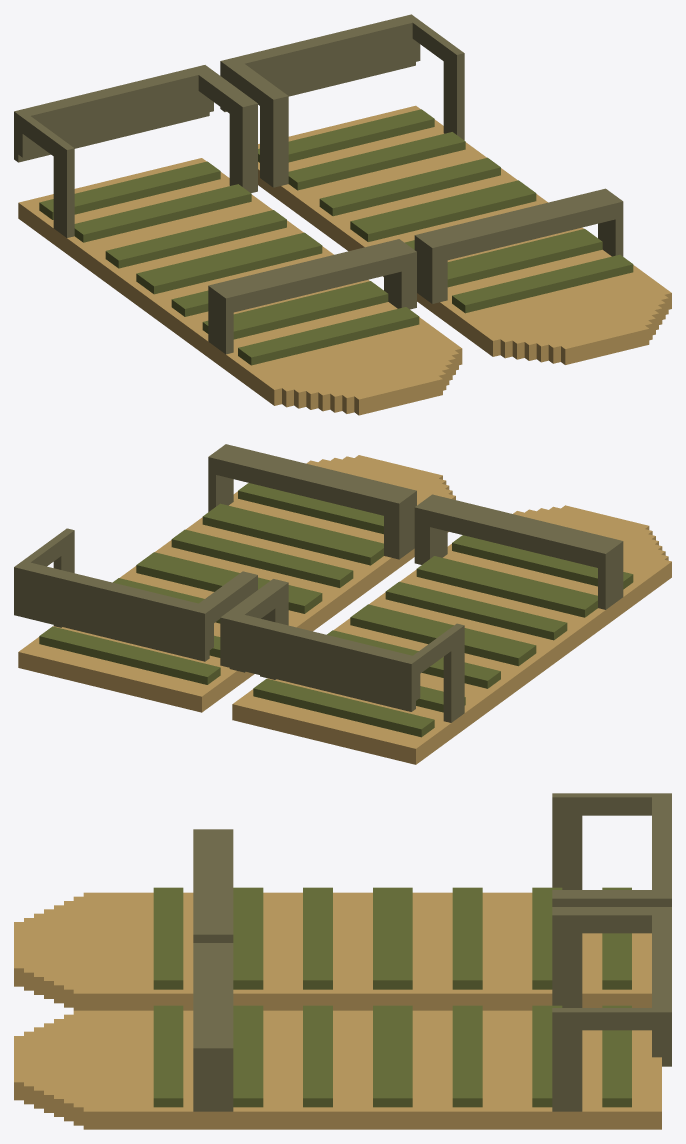
Rendered from bastsandals.glb.
3 views of the same model, one above another, from view 1: azimuth 30°, elevation 25°; view 2: azimuth 150°, elevation 25°; view 3: azimuth 270°, elevation 25° (orthographic). The views are drawn at different scales.
Parts seen in each view (by area): view 1: bastsandals:compound; view 2: bastsandals:compound; view 3: bastsandals:compound.
Boxes of the visible parts, left/top/right/bottom form: bastsandals:compound: left=14, top=14, right=671, bottom=415; bastsandals:compound: left=14, top=444, right=671, bottom=764; bastsandals:compound: left=14, top=793, right=671, bottom=1129.
Size of the model in its own units: 0.208 by 0.052 by 0.264.
